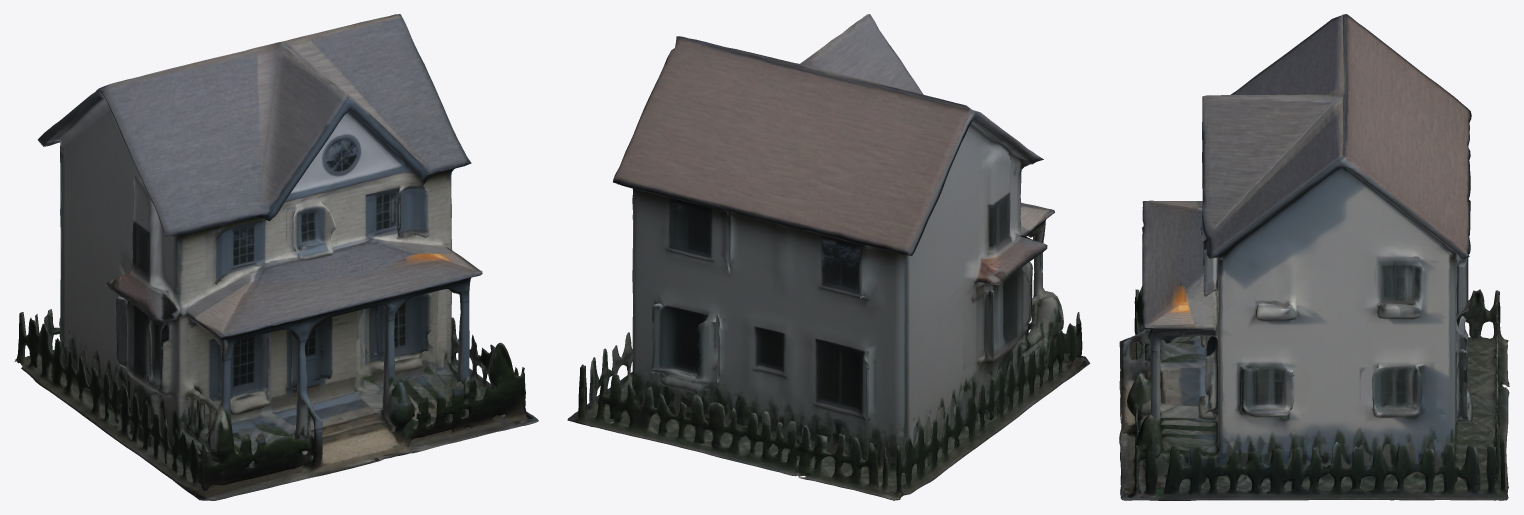
Rendered from house.glb.
The picture shows the model from 3 angles, left to right: view 1: azimuth 30°, elevation 25°; view 2: azimuth 150°, elevation 25°; view 3: azimuth 270°, elevation 25°; orthographic projection.
Bounding box in the file's own units: 2.01 × 1.9 × 2.01.
1 material, 1 textured.
